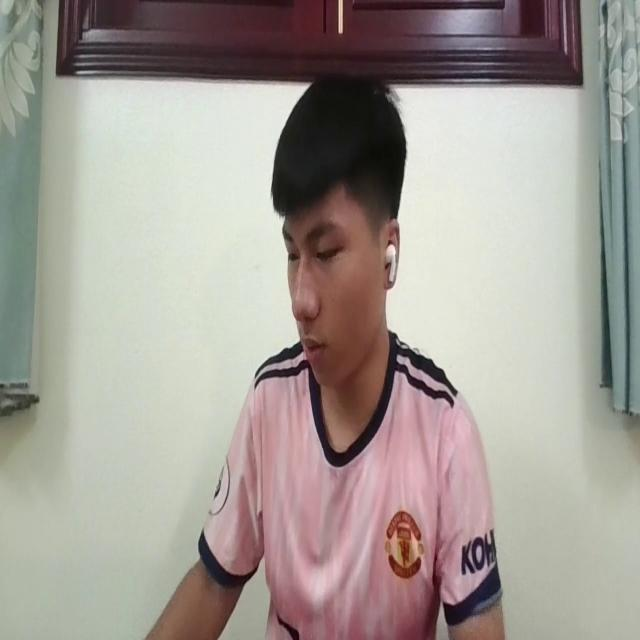student: (147, 77, 503, 640)
